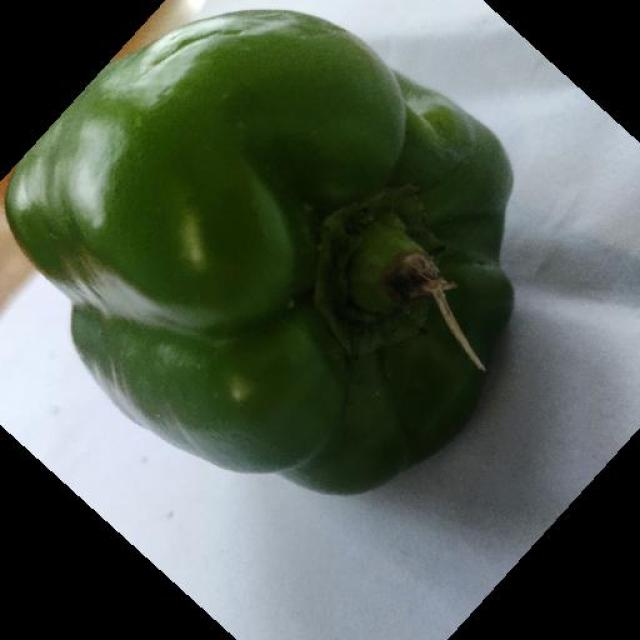Fresh_Capsicum: (204, 77, 527, 447)
